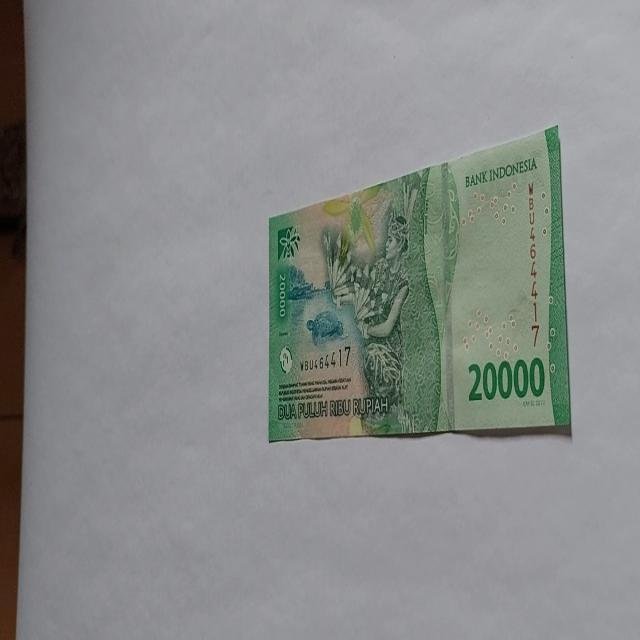dua puluh ribu rupiah: (266, 124, 572, 442)
